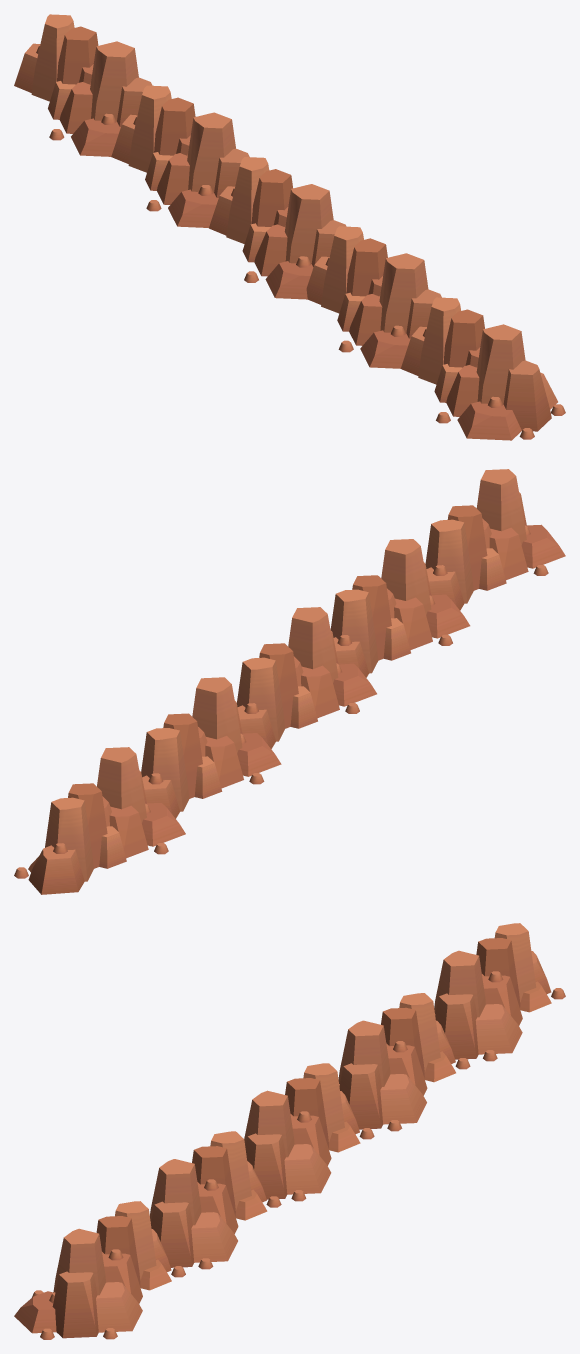
Rendered from RockWall.gltf.
3 views of the same model, one above another, from view 1: azimuth 30°, elevation 25°; view 2: azimuth 150°, elevation 25°; view 3: azimuth 330°, elevation 25° (orthographic).
Parts seen in each view (by area): view 1: rock-large7, rock-large2, rock-large8, rock-large6, rock-large, rock-small5, rock-small6, rock-small, rock-small4, rock-small7, rock-wide, rock-wide7 (+3 smaller); view 2: rock-large7, rock-large2, rock-large6, rock-large8, rock-large, rock-small5, rock-small, rock-small4, rock-small6, rock-small7, rock-wide4, rock-wide7 (+3 smaller); view 3: rock-large7, rock-large2, rock-large6, rock-large8, rock-large, rock-wide5, rock-wide6, rock-wide7, rock-wide, rock-wide4, rock-small4, rock-small6 (+3 smaller).
Part boxes in pixels (<box>): rock-large7: <box>436,324,565,440</box>; rock-large2: <box>146,112,249,227</box>; rock-large8: <box>338,253,441,368</box>; rock-large6: <box>49,41,152,156</box>; rock-large: <box>244,184,346,299</box>; rock-small5: <box>14,14,74,101</box>; rock-small6: <box>400,297,461,384</box>; rock-small: <box>209,157,269,243</box>; rock-small4: <box>111,85,171,172</box>; rock-small7: <box>306,226,363,313</box>; rock-wide: <box>242,169,292,262</box>; rock-wide7: <box>337,238,387,331</box>; rock-large7: <box>476,469,565,580</box>; rock-large2: <box>192,677,281,788</box>; rock-large6: <box>97,747,185,858</box>; rock-large8: <box>381,539,470,649</box>; rock-large: <box>288,607,376,718</box>; rock-small5: <box>14,797,93,894</box>; rock-small: <box>237,657,285,748</box>; rock-small4: <box>141,728,189,818</box>; rock-small6: <box>425,519,473,610</box>; rock-small7: <box>330,589,378,677</box>; rock-wide4: <box>163,713,222,798</box>; rock-wide7: <box>352,575,410,660</box>; rock-large7: <box>14,1228,142,1339</box>; rock-large2: <box>338,1020,426,1131</box>; rock-large6: <box>434,950,522,1061</box>; rock-large8: <box>150,1159,237,1269</box>; rock-large: <box>244,1090,331,1201</box>; rock-wide5: <box>476,938,522,1025</box>; rock-wide6: <box>96,1216,142,1303</box>; rock-wide7: <box>192,1146,238,1233</box>; rock-wide: <box>285,1078,331,1165</box>; rock-wide4: <box>381,1007,427,1095</box>; rock-small4: <box>399,993,470,1082</box>; rock-small6: <box>115,1201,185,1290</box>.
Size of the model in its own units: 6.68 by 4.65 by 52.54.
Materials: 3 (3 with a texture image).
